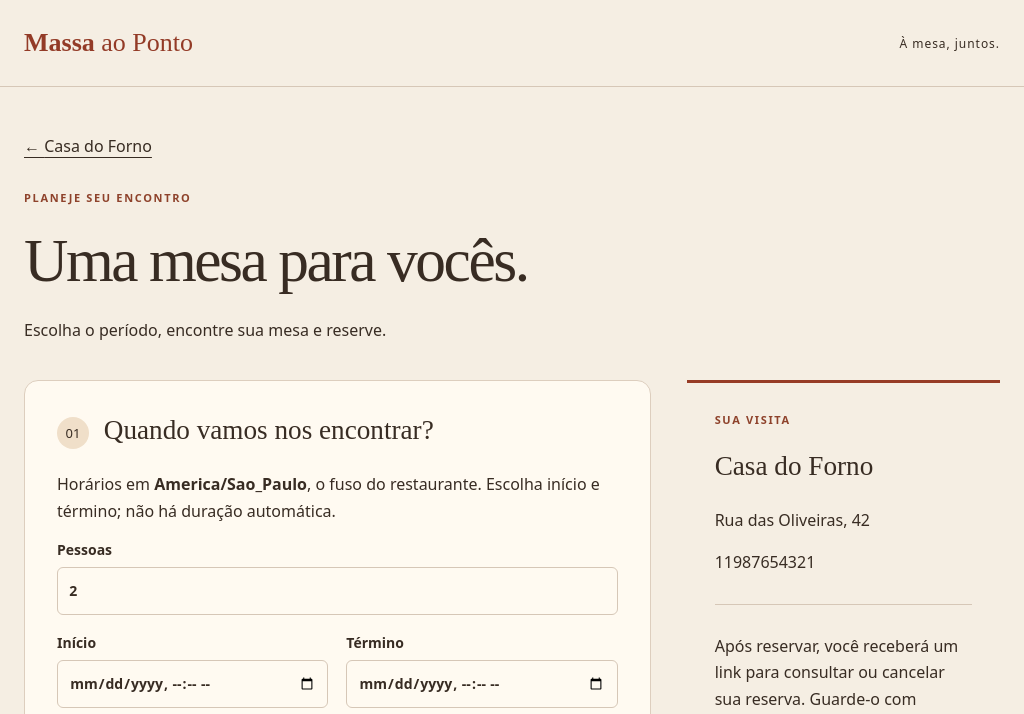
Test case: Public reservation UI › shows the weekly status and blocks availability locally while closed
This screenshot has width=1024, height=714.
Expected: the number field labelled "Pessoas" is shown, [57,567,618,615]
Type "2030-09-10T19:00" into the field labelled "Início" at (193, 684), box [57,660,328,708]
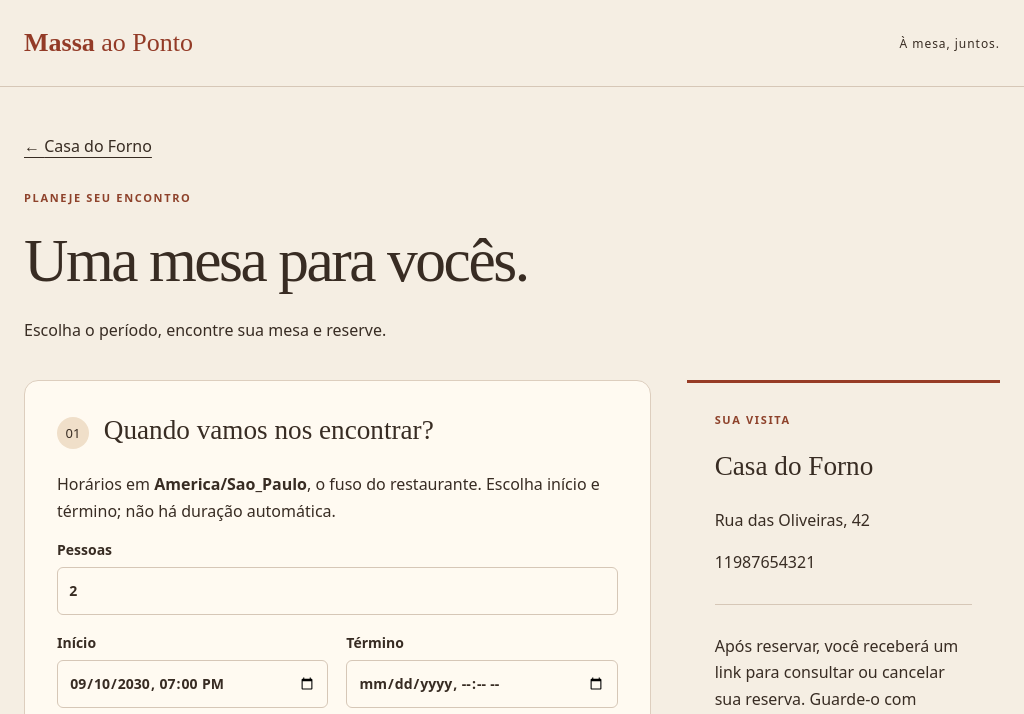
Type "2030-09-10T21:00" into the field labelled "Término" at (482, 684), box [346,660,618,708]
(page scrolled)
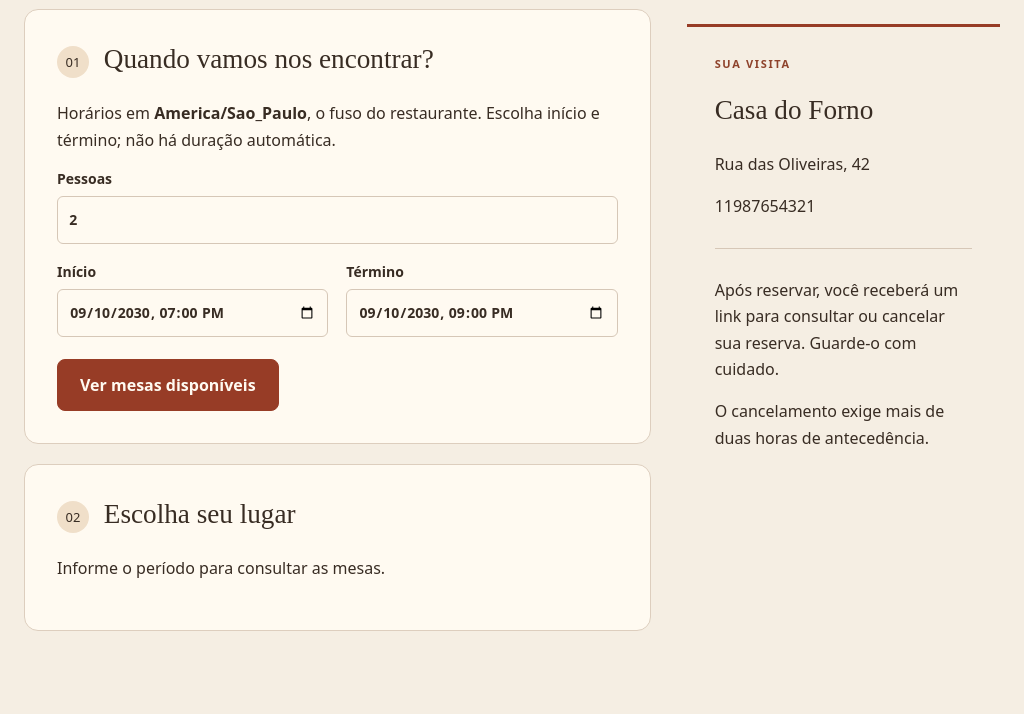
Click the button "Ver mesas disponíveis" at (168, 385), box [57,359,279,411]
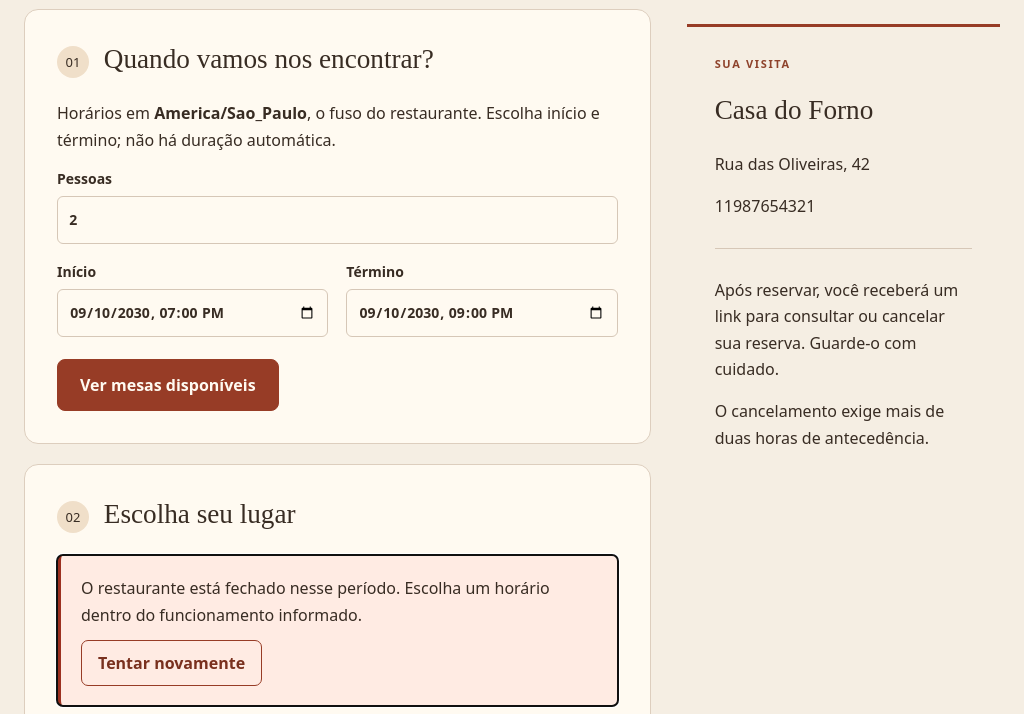
Result: the message shows "fechado nesse período" at [81,577,550,626]
